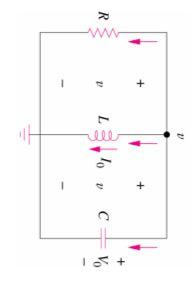Capacitor: (86, 218, 115, 249)
